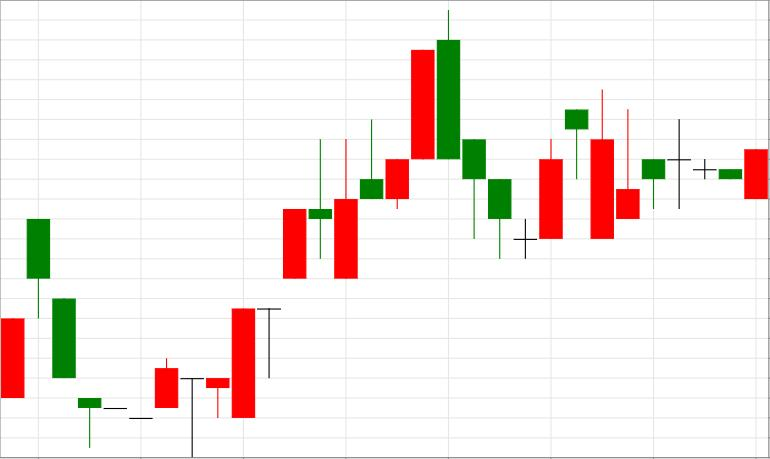bearish_engulfing_fall: (334, 10, 460, 279)
morning_star_rise: (437, 9, 563, 259)
